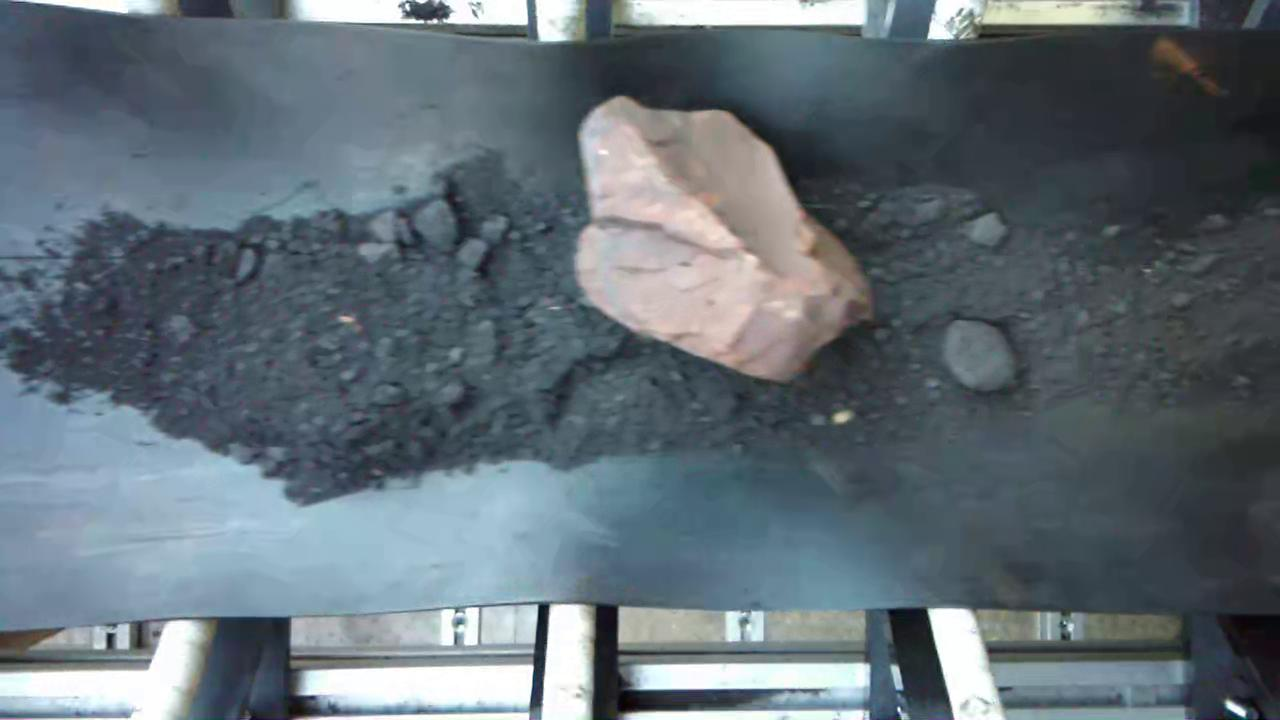conveyor: (5, 43, 1280, 599)
